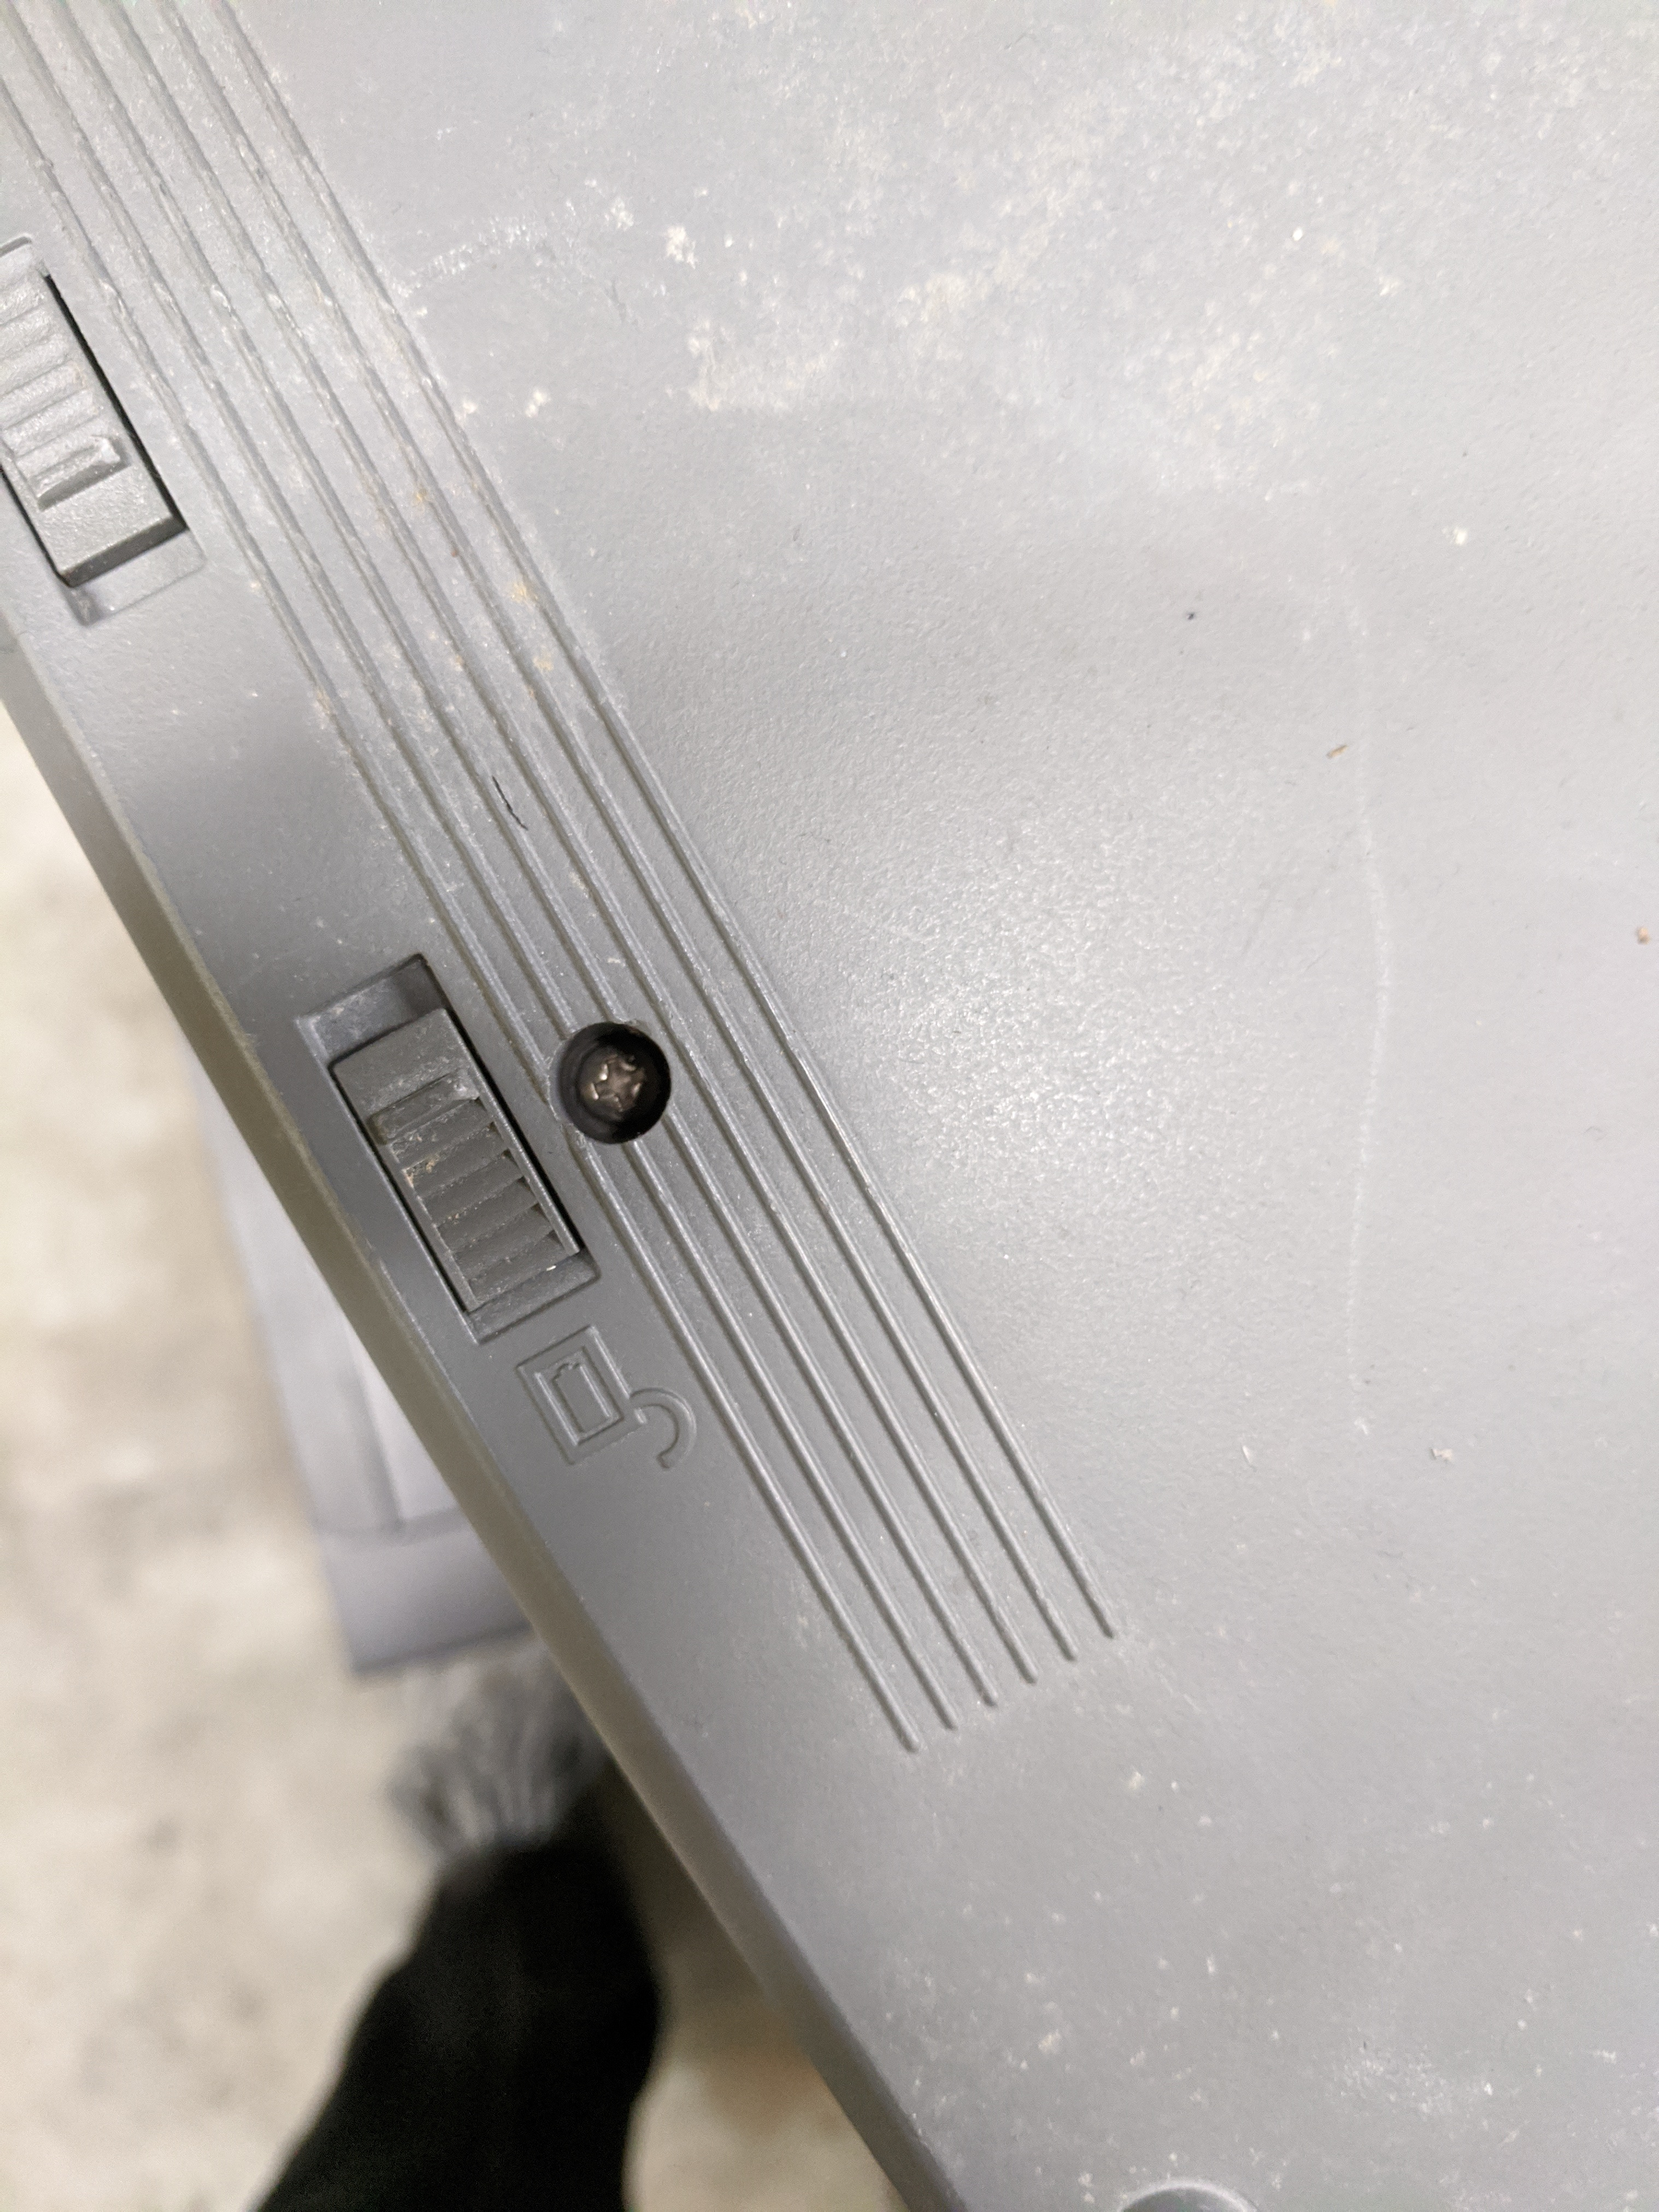cross_recessed_screw: (551, 1014, 674, 1148)
